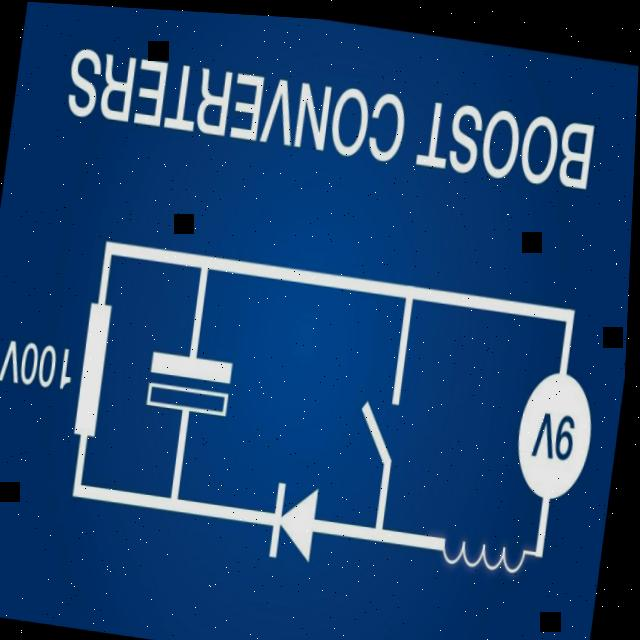capacitor: (137, 326, 256, 440)
diode: (261, 464, 338, 575)
inductor: (427, 507, 543, 602)
resistor: (68, 289, 121, 449)
source: (503, 343, 608, 502)
switch: (351, 342, 423, 491)
